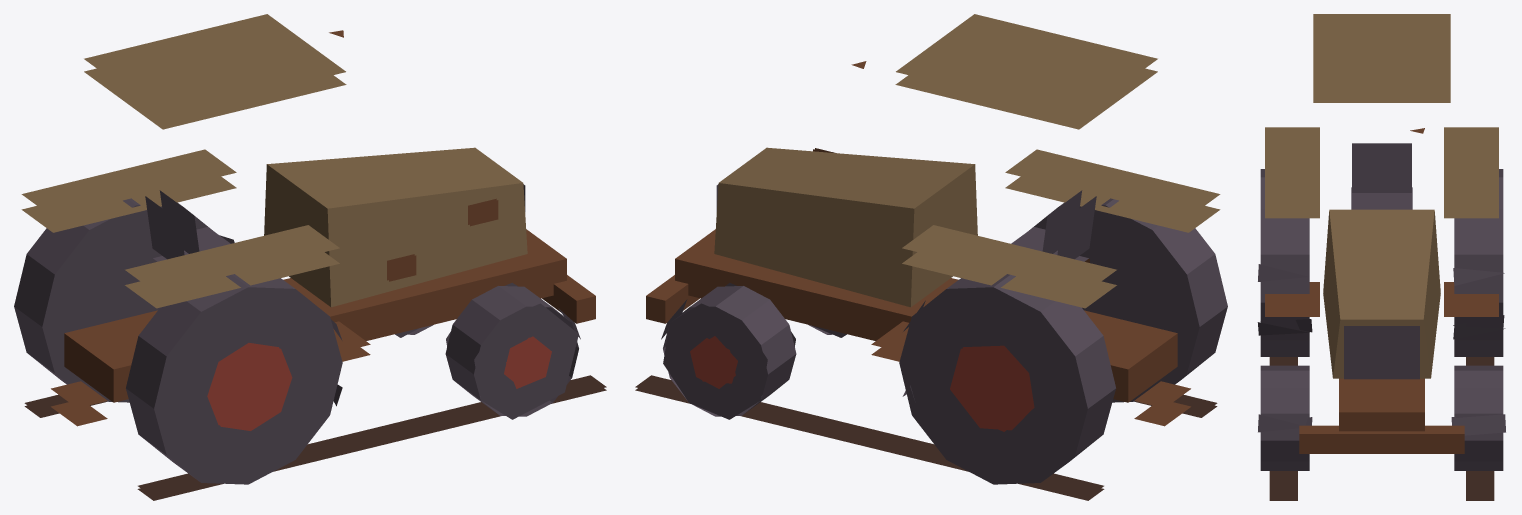
The picture shows the model from 3 angles, left to right: view 1: azimuth 30°, elevation 25°; view 2: azimuth 150°, elevation 25°; view 3: azimuth 270°, elevation 25°; orthographic projection. The views are drawn at different scales.
Visible parts, largest first — view 1: body; view 2: body; view 3: body.
Boxes of the visible parts, x1,y1,x2,y2 form: body: (14,14,606,500); body: (635,14,1227,500); body: (1257,14,1505,500).
Size of the model in its own units: 3.96 by 2.8 by 2.05.
